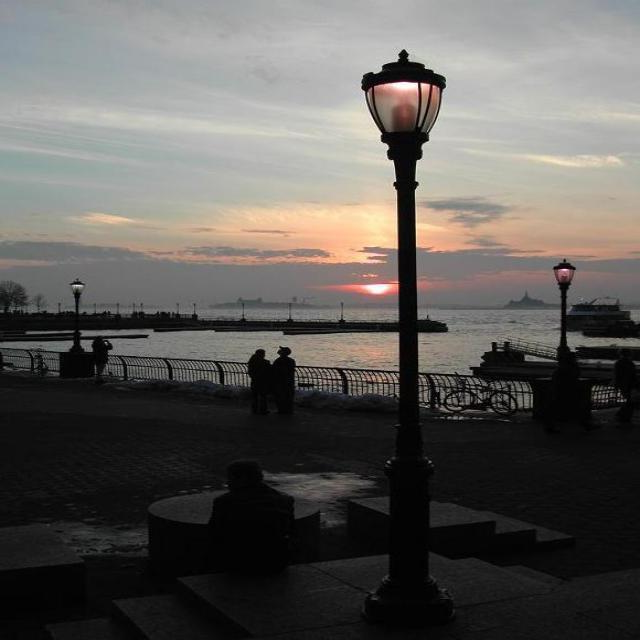on: (160, 460, 322, 602)
